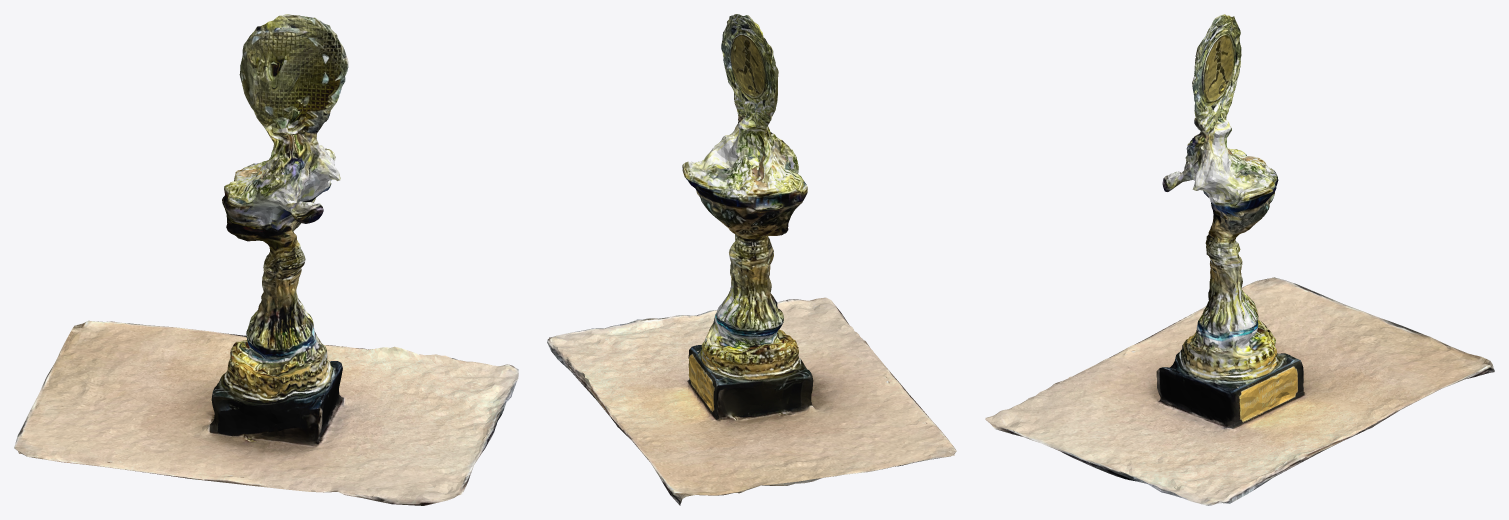
File: 2_trophy.gltf
The picture shows the model from 3 angles, left to right: view 1: azimuth 30°, elevation 25°; view 2: azimuth 150°, elevation 25°; view 3: azimuth 270°, elevation 25°; orthographic projection. The views are drawn at different scales.
Visible parts, largest first — view 1: model_New Qlone_20240225_115933784; view 2: model_New Qlone_20240225_115933784; view 3: model_New Qlone_20240225_115933784.
Boxes of the visible parts, box(x1,y1,x2,y2) form: model_New Qlone_20240225_115933784: box(14, 14, 518, 505); model_New Qlone_20240225_115933784: box(547, 14, 956, 505); model_New Qlone_20240225_115933784: box(985, 14, 1494, 505).
Size of the model in its own units: 10.98 by 9.18 by 10.82.
1 material, 1 textured.
